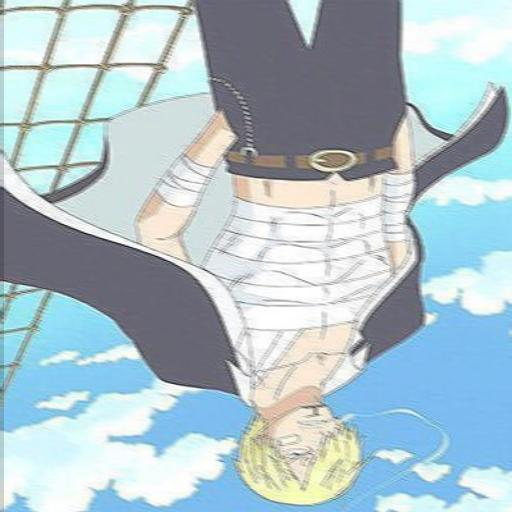sanji: (132, 0, 444, 499)
